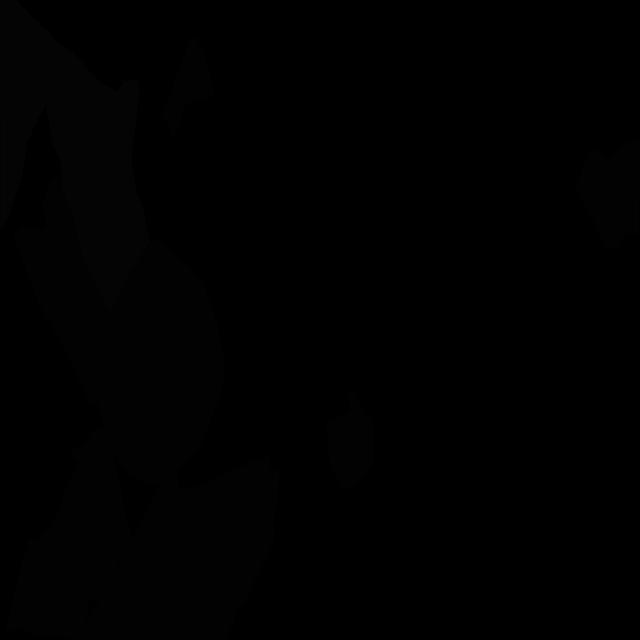cardboard: (76, 454, 280, 640), (92, 237, 224, 490), (6, 428, 132, 640), (14, 173, 109, 405), (574, 140, 640, 247), (159, 35, 215, 139), (326, 392, 374, 490)
soft_plastic: (40, 26, 150, 314), (0, 0, 46, 230)
